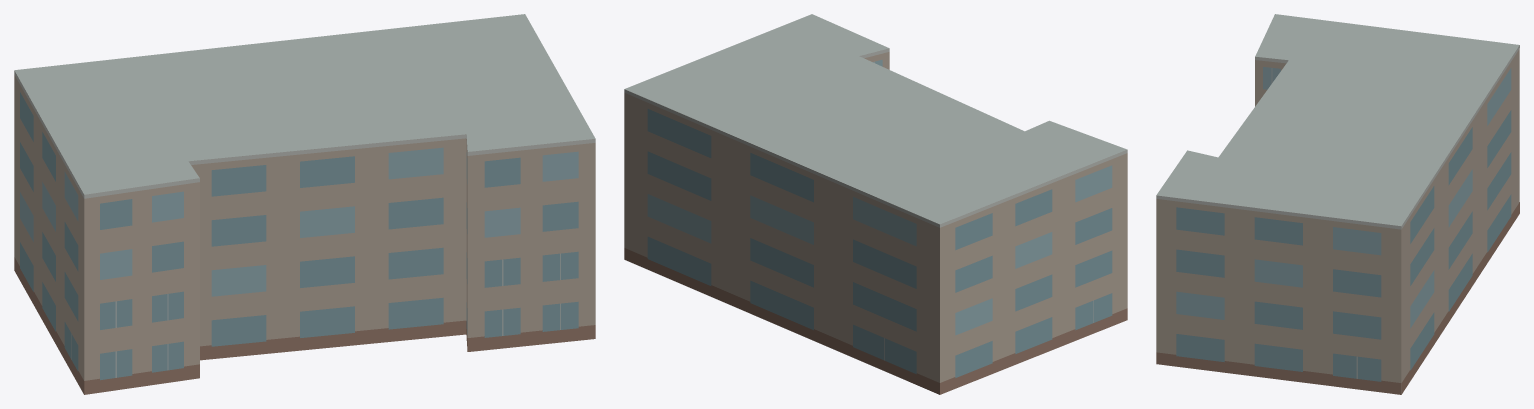
Rendered from survey-upis-32980265.glb.
3 views of the same model, side by side, from view 1: azimuth 30°, elevation 25°; view 2: azimuth 150°, elevation 25°; view 3: azimuth 270°, elevation 25° (orthographic). The views are drawn at different scales.
Visible parts, largest first — view 1: survey-upis-32980265.tmp; view 2: survey-upis-32980265.tmp; view 3: survey-upis-32980265.tmp.
Boxes of the visible parts, left/top/right/bottom form: survey-upis-32980265.tmp: left=14, top=14, right=595, bottom=394; survey-upis-32980265.tmp: left=624, top=14, right=1127, bottom=394; survey-upis-32980265.tmp: left=1156, top=14, right=1519, bottom=394.
Size of the model in its own units: 32.93 by 12.2 by 23.84.
